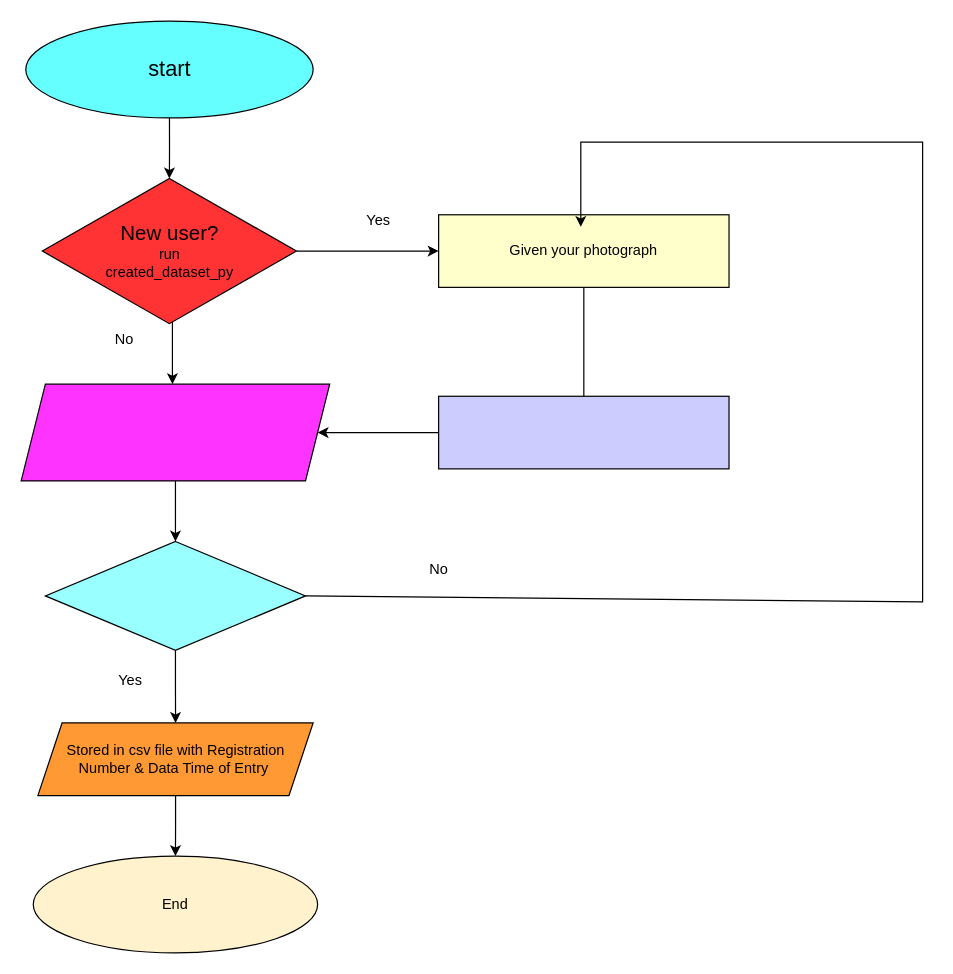
The diagram is 953 pixels wide and 974 high, and some of its shapes have lost their labels. The shapes that lost their labels are listed below. From the top down, each one's box as (x1, y1, x2, y2) in pixels, then its label:
(20, 383, 330, 481): Recognize the face run face_recognize_py
(44, 540, 306, 650): Face Recognized
